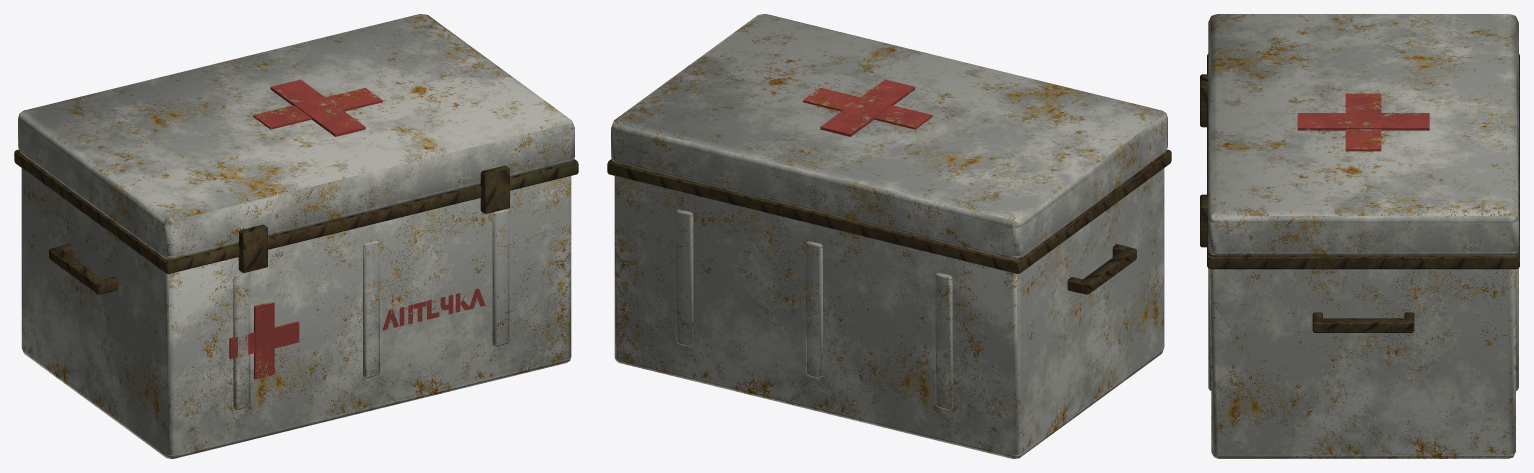
The model's file is loot_crate_medical.glb.
3 views of the same model, side by side, from view 1: azimuth 30°, elevation 25°; view 2: azimuth 150°, elevation 25°; view 3: azimuth 270°, elevation 25° (orthographic).
Parts seen in each view (by area): view 1: box, box.001, box.002, box.005, box.004, box.003, box.007, box.006, box.009, box.017, box.016, stencil (+2 smaller); view 2: box, box.001, box.002, box.005, box.003, box.004, box.007, box.006, box.010; view 3: box.001, box, box.002, box.007, box.006, box.013, box.005, box.016, box.017.
Part boxes in pixels (<box>): box: <box>21,168,571,458</box>; box.001: <box>18,14,574,259</box>; box.002: <box>14,149,578,273</box>; box.005: <box>492,209,509,346</box>; box.004: <box>363,241,379,378</box>; box.003: <box>233,272,250,409</box>; box.007: <box>270,79,365,136</box>; box.006: <box>253,87,382,129</box>; box.009: <box>254,301,274,379</box>; box.017: <box>480,165,509,213</box>; box.016: <box>238,224,267,272</box>; stencil: <box>382,288,485,330</box>; box: <box>614,168,1164,458</box>; box.001: <box>611,14,1167,259</box>; box.002: <box>607,149,1171,273</box>; box.005: <box>676,209,693,346</box>; box.003: <box>935,272,952,409</box>; box.004: <box>806,241,822,378</box>; box.007: <box>820,79,915,136</box>; box.006: <box>803,87,932,129</box>; box.010: <box>1079,247,1136,294</box>; box.001: <box>1208,14,1518,255</box>; box: <box>1211,269,1515,458</box>; box.002: <box>1207,53,1519,269</box>; box.007: <box>1297,113,1429,130</box>; box.006: <box>1345,93,1381,151</box>; box.013: <box>1312,318,1414,332</box>; box.005: <box>1208,268,1518,390</box>; box.016: <box>1200,74,1208,127</box>; box.017: <box>1200,194,1208,247</box>.
Size of the model in its own units: 1.03 by 0.546 by 0.63.
3 materials, 3 textured.
